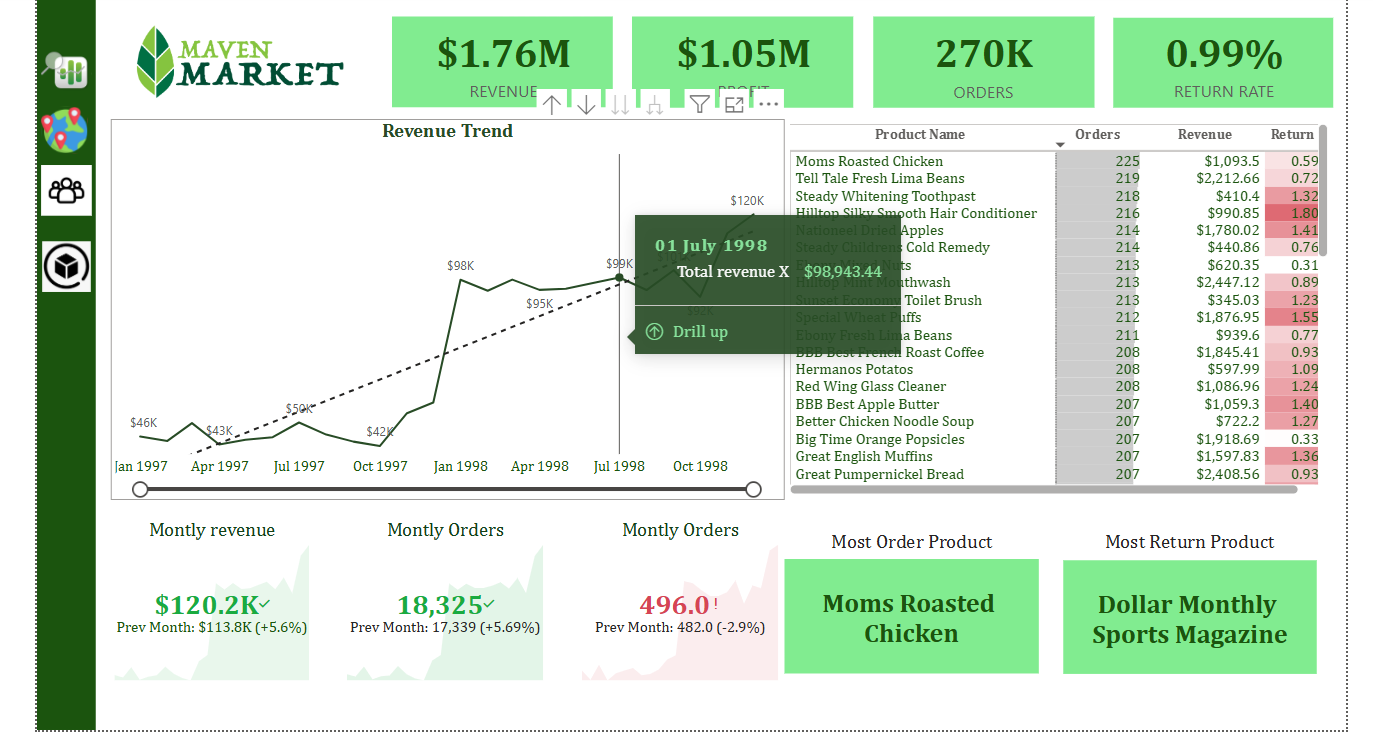

What the dashboard file says about the page in this screenshot:
{"tool":"powerbi","page":{"name":"Dashboard","canvas":[1280,720],"ordinal":0},"visuals":[{"type":"shape","title":"NAVI","box":[0,0,57.5,720.2],"z":0},{"type":"shape","box":[347.3,22,216,89],"z":0,"group":"g1"},{"type":"card","fields":{"Values":["Measure.Total revenue X"]},"box":[348.4,22.9,216.3,88],"z":0,"group":"g2"},{"type":"image","title":"MM logo","box":[57.5,20.8,280,90.5],"z":1000},{"type":"shape","box":[582.2,22,216.4,89.3],"z":1000,"group":"g1"},{"type":"card","fields":{"Values":["Measure.Total Profit"]},"box":[583.4,22.9,216.3,88],"z":1000,"group":"g2"},{"type":"group","id":"g1","title":"KPI Shape","box":[347.3,22,920.8,89.3],"z":2000},{"type":"shape","box":[817.5,22,216.4,89.3],"z":2000,"group":"g1"},{"type":"card","fields":{"Values":["Measure.Return rate"]},"box":[1053.4,22.9,215,88],"z":2000,"group":"g2"},{"type":"group","id":"g2","title":"KPI value","box":[348.4,22.8,920,88.2],"z":3000},{"type":"card","fields":{"Values":["Measure.Total orders"]},"box":[818.4,22.8,216.2,88.2],"z":3000,"group":"g2"},{"type":"shape","box":[1052.9,23.2,215.2,88],"z":3000,"group":"g1"},{"type":"lineChart","title":"Revenue Trend","fields":{"Y":["Measure.Total revenue X"],"Category":["Calender.Year","Calender.Start of Month"]},"box":[72.1,122.3,659.1,373],"z":4000},{"type":"kpi","title":"Montly revenue","fields":{"Indicator":["Measure.Total revenue X"],"TrendLine":["Calender.Start of Month"],"Goal":["Measure.Prev month revenue"]},"box":[70.7,512.2,200.5,164.5],"z":5000},{"type":"kpi","title":"Montly Orders","fields":{"TrendLine":["Calender.Start of Month"],"Indicator":["Measure.Total orders"],"Goal":["Measure.Prev month Orders"]},"box":[298.7,512.2,202,164.5],"z":6000},{"type":"kpi","title":"Montly Orders","fields":{"Goal":["Measure.prev month return"],"Indicator":["Measure.Total returns"],"TrendLine":["Calender.Start of Month.Variation.Date Hierarchy.Month"]},"box":[528.1,512.2,202,164.5],"z":7000},{"type":"tableEx","fields":{"Values":["Products.product_name","Measure.Total orders","Measure.Total revenue X","Measure.Return rate"]},"box":[729.7,122.8,537.5,372],"z":8000},{"type":"card","fields":{"Values":["Min(Products.product_name)"]},"box":[731,553.2,248.9,112.4],"z":9000},{"type":"textbox","box":[731,519.1,248.9,34.1],"z":10000},{"type":"card","fields":{"Values":["Min(Products.product_name)"]},"box":[1003.9,553.9,248.2,111.3],"z":11000},{"type":"textbox","box":[1002.7,519.7,249.5,34.2],"z":12000},{"type":"actionButton","box":[0,93.1,57.7,40.4],"z":13000},{"type":"actionButton","box":[0,39,57.7,73.6],"z":14000},{"type":"actionButton","box":[0,106.8,77.9,53.4],"z":15000},{"type":"actionButton","box":[0,155.8,57.7,73.6],"z":16000},{"type":"actionButton","box":[0,229.4,57.7,73.6],"z":17000}]}

Visuals, with their boxes on the page's 1280x720 design canvas (x1, y1, x2, y2). These are canvas units, not pixel positions in the 1373x732 screenshot, which may show the page scaled, cropped or inside an application window:
"NAVI" shape: [0, 0, 58, 720]
shape: [347, 22, 563, 111]
card - Measure.Total revenue X: [348, 23, 565, 111]
"MM logo" image: [58, 21, 338, 111]
shape: [582, 22, 799, 111]
card - Measure.Total Profit: [583, 23, 800, 111]
"KPI Shape" group: [347, 22, 1268, 111]
shape: [818, 22, 1034, 111]
card - Measure.Return rate: [1053, 23, 1268, 111]
"KPI value" group: [348, 23, 1268, 111]
card - Measure.Total orders: [818, 23, 1035, 111]
shape: [1053, 23, 1268, 111]
"Revenue Trend" lineChart: [72, 122, 731, 495]
"Montly revenue" kpi: [71, 512, 271, 677]
"Montly Orders" kpi: [299, 512, 501, 677]
"Montly Orders" kpi: [528, 512, 730, 677]
tableEx - Products.product_name x Measure.Total orders: [730, 123, 1267, 495]
card - Min(Products.product_name): [731, 553, 980, 666]
textbox: [731, 519, 980, 553]
card - Min(Products.product_name): [1004, 554, 1252, 665]
textbox: [1003, 520, 1252, 554]
actionButton: [0, 93, 58, 134]
actionButton: [0, 39, 58, 113]
actionButton: [0, 107, 78, 160]
actionButton: [0, 156, 58, 229]
actionButton: [0, 229, 58, 303]
